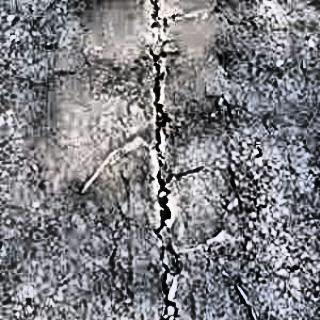crack: (144, 0, 185, 320)
